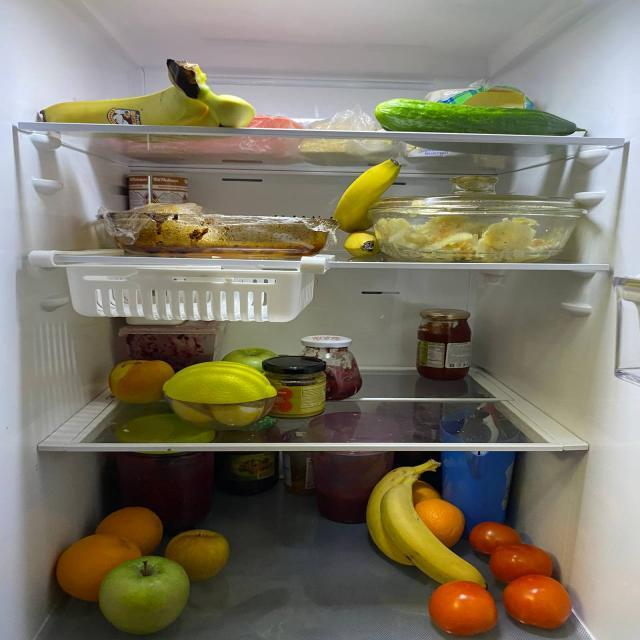Apple: (90, 557, 190, 634), (167, 526, 230, 577), (108, 360, 172, 401), (218, 343, 276, 372)
Banana: (12, 68, 266, 135), (362, 465, 492, 585), (333, 160, 399, 236), (334, 232, 380, 256)
Cucumber: (368, 99, 588, 132)
Orange: (54, 534, 132, 605), (100, 504, 166, 547), (414, 496, 466, 544), (412, 476, 437, 499)
Tomato: (498, 577, 578, 630), (430, 583, 500, 632), (492, 544, 556, 579), (464, 518, 522, 548)
